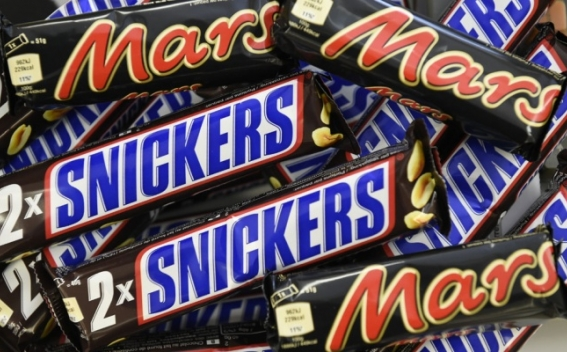snickers: (393, 50, 565, 269), (148, 166, 384, 313), (54, 82, 294, 226), (427, 50, 565, 269), (52, 88, 207, 266), (355, 1, 530, 155), (52, 96, 207, 266), (421, 195, 566, 349), (0, 100, 117, 173)
